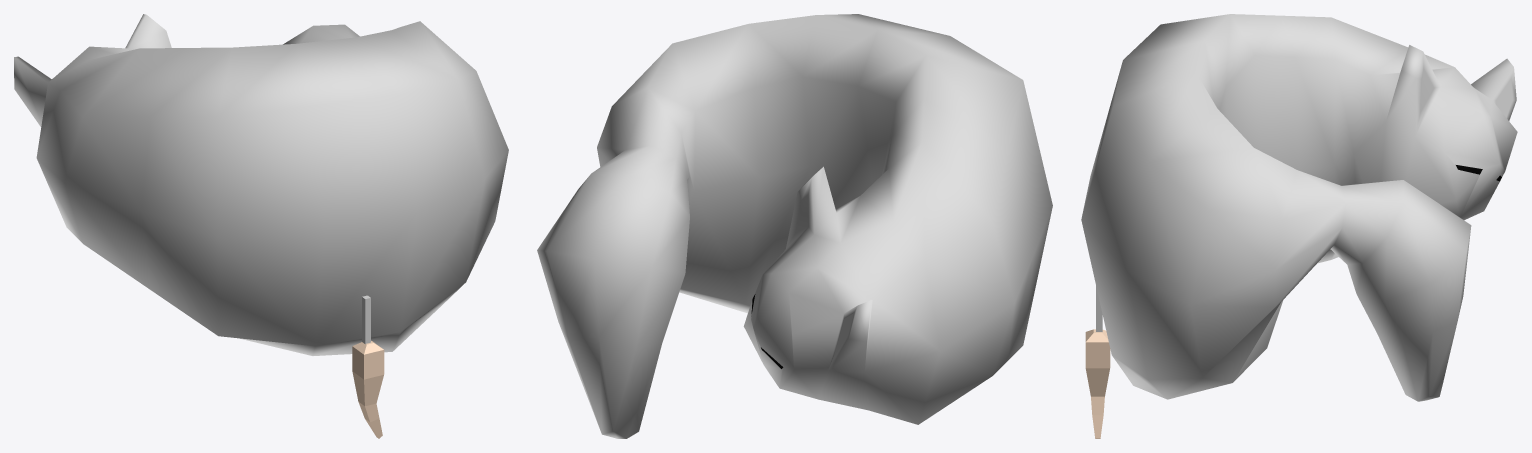
The model's file is Bag_0709.fbx.
3 renders of one model, left to right at view 1: azimuth 30°, elevation 25°; view 2: azimuth 150°, elevation 25°; view 3: azimuth 270°, elevation 25°, orthographic. The views are drawn at different scales.
Visible parts, largest first — view 1: Bag; view 2: Bag; view 3: Bag.
Boxes of the visible parts, bbox=[...] form: Bag: bbox=[14, 14, 508, 438]; Bag: bbox=[537, 14, 1052, 438]; Bag: bbox=[1081, 14, 1517, 438].
Bounding box in the file's own units: 90.22 × 83.02 × 85.76.
